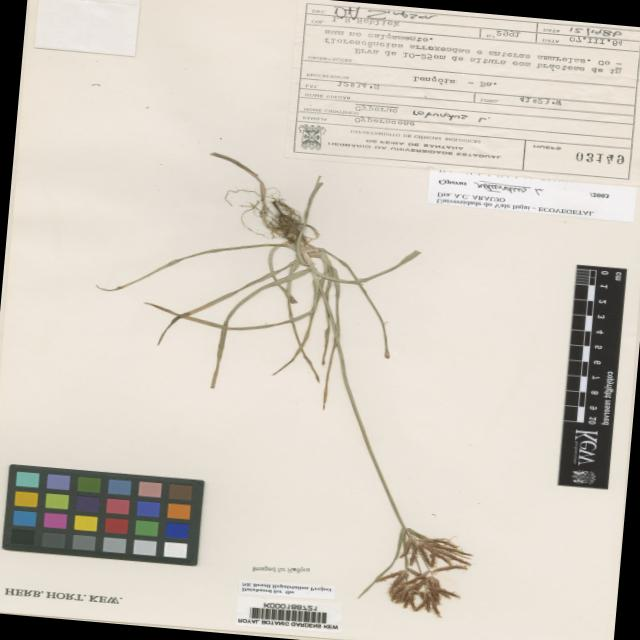cyperus: (351, 520, 493, 624)
